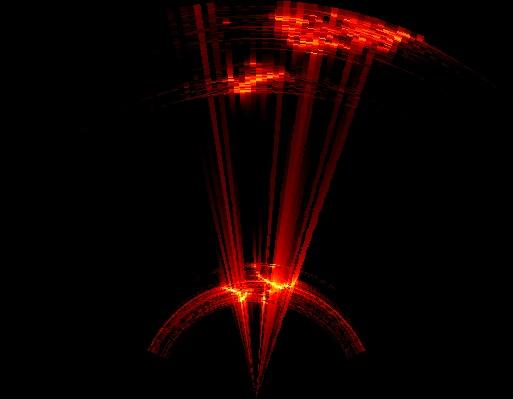shipwreck: (270, 11, 421, 53), (225, 65, 289, 93), (256, 276, 294, 291), (223, 286, 251, 301)
